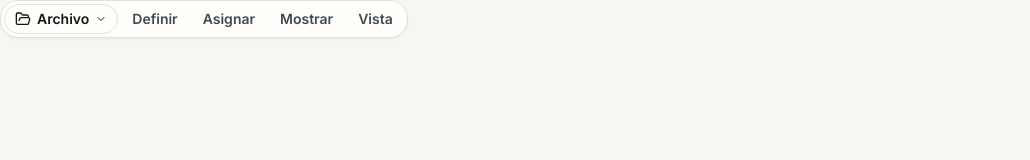
starts folded, opens one menu at a time and folds again with Escape
The image size is (1030, 160).
Expected: the button "Rejilla" is not shown
Click the button "Definir": (155, 19) [121,4,189,34]
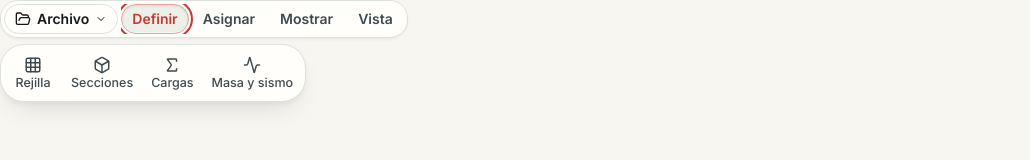
Result: the button "Definir" is expanded at [121,4,189,34]
Result: the button "Rejilla" is shown at [5,49,61,97]
Note: Las flechas pasan al menú vecino sin cerrarlo.
Press Arrowright
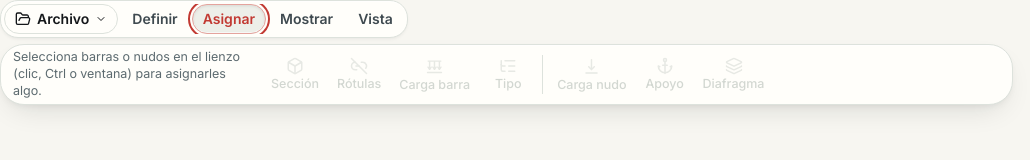
Result: the button "Asignar" is expanded at [192,4,266,34]
Press Escape
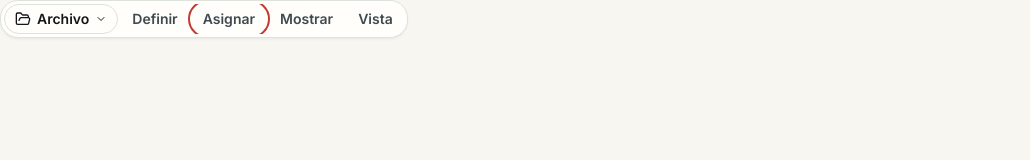
Note: Un comando que abre un diálogo pliega el menú.
Click the button "Definir": (155, 19) [121,4,189,34]
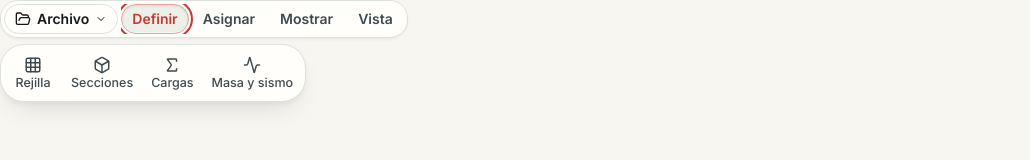
Click the button "Rejilla": (33, 73) [5,49,61,97]
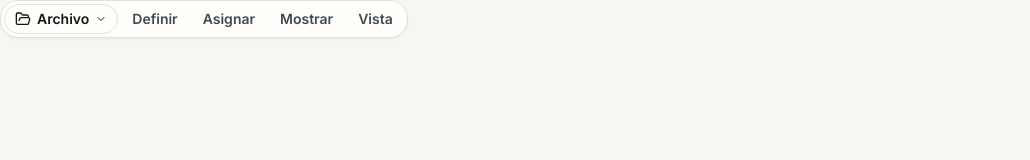
Result: the button "Rejilla" is gone
